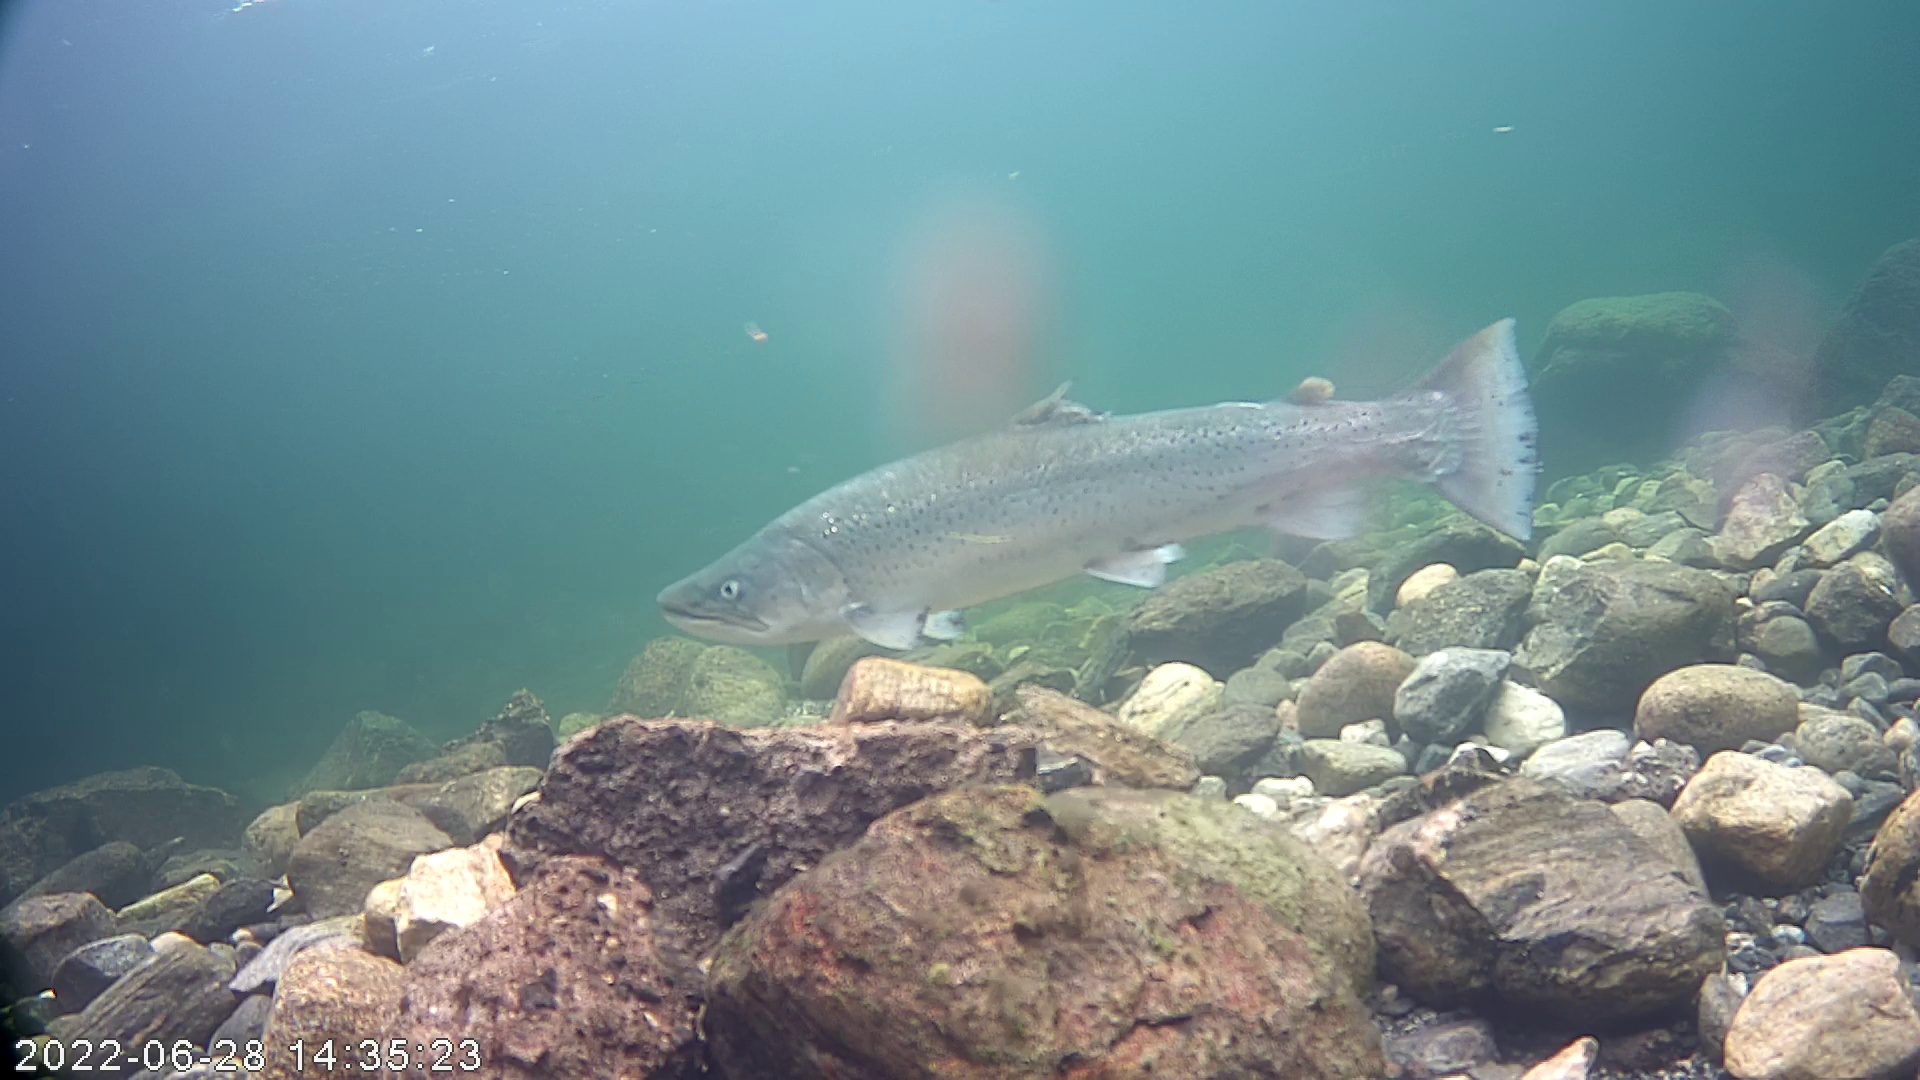salmon: (651, 253, 1571, 683)
